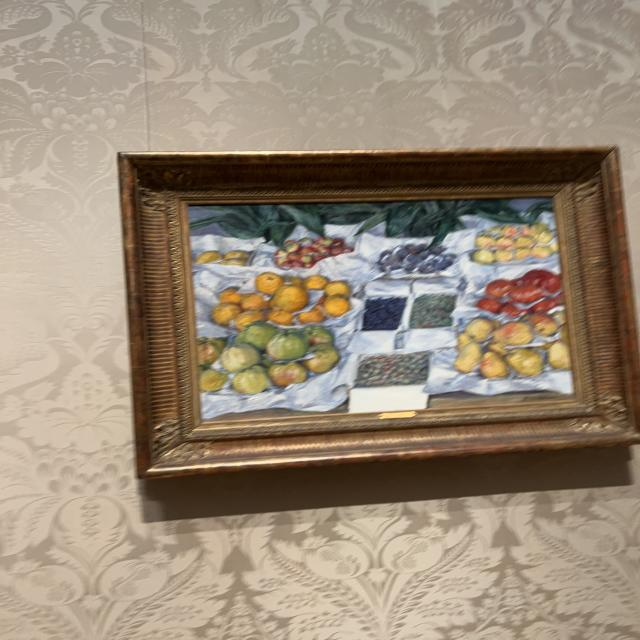fruits: (186, 196, 580, 420)
